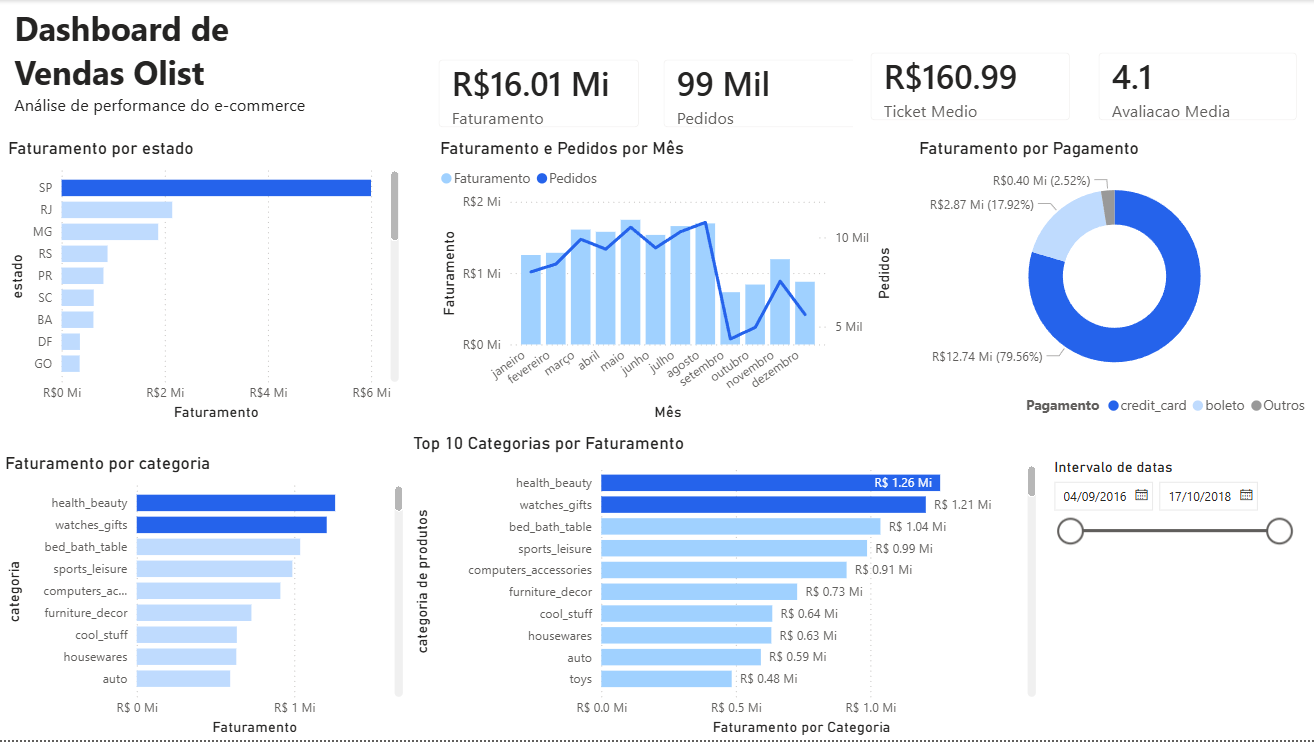

Layout of this report page (visuals, bound fields, positions):
{"tool":"powerbi","page":{"name":"Visão Geral","canvas":[1280,720],"ordinal":0},"visuals":[{"type":"cardVisual","fields":{"Data":["olist vw_vendas.Faturamento"]},"box":[410.5,40.9,229.5,100.2],"z":0},{"type":"cardVisual","fields":{"Data":["olist vw_vendas.Pedidos"]},"box":[629.3,40.9,228.6,100.2],"z":1000},{"type":"cardVisual","fields":{"Data":["olist vw_vendas.Ticket Medio"]},"box":[830.6,34,228.6,100.2],"z":2000},{"type":"cardVisual","fields":{"Data":["olist vw_vendas.Avaliacao Media"]},"box":[1052.4,34,227.6,100.2],"z":3000},{"type":"lineClusteredColumnComboChart","fields":{"Category":["olist vw_vendas.data_pedido.Variation.Hierarquia de datas.Mês"],"Y":["vw_vendas.Faturamento"],"Y2":["vw_vendas.Pedidos"]},"box":[424.1,134.2,448.4,280.1],"z":4000},{"type":"barChart","fields":{"Y":["vw_produtos.Faturamento por Categoria"],"Category":["vw_vendas.categoria_principal"]},"box":[1,440.6,396.8,279.1],"z":5000},{"type":"donutChart","fields":{"Y":["olist vw_vendas.Faturamento"],"Category":["vw_vendas.Forma de Pagamento Agrupada"]},"box":[890,134.2,390,279.1],"z":6000},{"type":"barChart","fields":{"Category":["vw_vendas.customer_state"],"Y":["vw_vendas.Faturamento"]},"box":[3.9,134.2,390,279.1],"z":7000},{"type":"barChart","title":"Top 10 Categorias por Faturamento","fields":{"Y":["vw_produtos.Faturamento por Categoria"],"Category":["vw_vendas.categoria_principal"]},"box":[397.8,421.2,615.7,298.6],"z":8000},{"type":"textbox","box":[9.7,0,330.7,134.2],"z":9000},{"type":"slicer","fields":{"Values":["vw_vendas.data_pedido"]},"box":[1013.5,440.6,252.9,200.4],"z":10000}]}

Visuals, with their boxes in screenshot pixels (x1, y1, x2, y2), scaled from the page's 1280x720 canvas onto the 1314x743 screenshot:
cardVisual - olist vw_vendas.Faturamento: [x1=421, y1=42, x2=657, y2=146]
cardVisual - olist vw_vendas.Pedidos: [x1=646, y1=42, x2=881, y2=146]
cardVisual - olist vw_vendas.Ticket Medio: [x1=853, y1=35, x2=1087, y2=138]
cardVisual - olist vw_vendas.Avaliacao Media: [x1=1080, y1=35, x2=1313, y2=138]
lineClusteredColumnComboChart - olist vw_vendas.data_pedido.Variation.Hierarquia de datas.Mês x vw_vendas.Faturamento: [x1=435, y1=138, x2=896, y2=428]
barChart - vw_produtos.Faturamento por Categoria x vw_vendas.categoria_principal: [x1=1, y1=455, x2=408, y2=742]
donutChart - olist vw_vendas.Faturamento x vw_vendas.Forma de Pagamento Agrupada: [x1=914, y1=138, x2=1313, y2=427]
barChart - vw_vendas.customer_state x vw_vendas.Faturamento: [x1=4, y1=138, x2=404, y2=427]
"Top 10 Categorias por Faturamento" barChart: [x1=408, y1=435, x2=1040, y2=742]
textbox: [x1=10, y1=0, x2=349, y2=138]
slicer - vw_vendas.data_pedido: [x1=1040, y1=455, x2=1300, y2=661]
